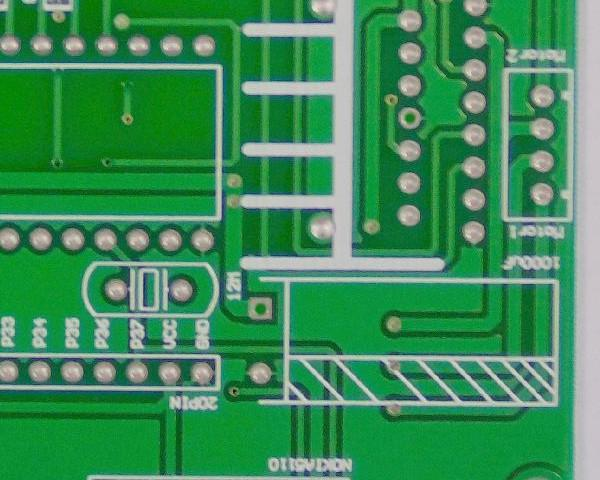missing hole: (244, 289, 280, 325), (393, 105, 427, 134)
